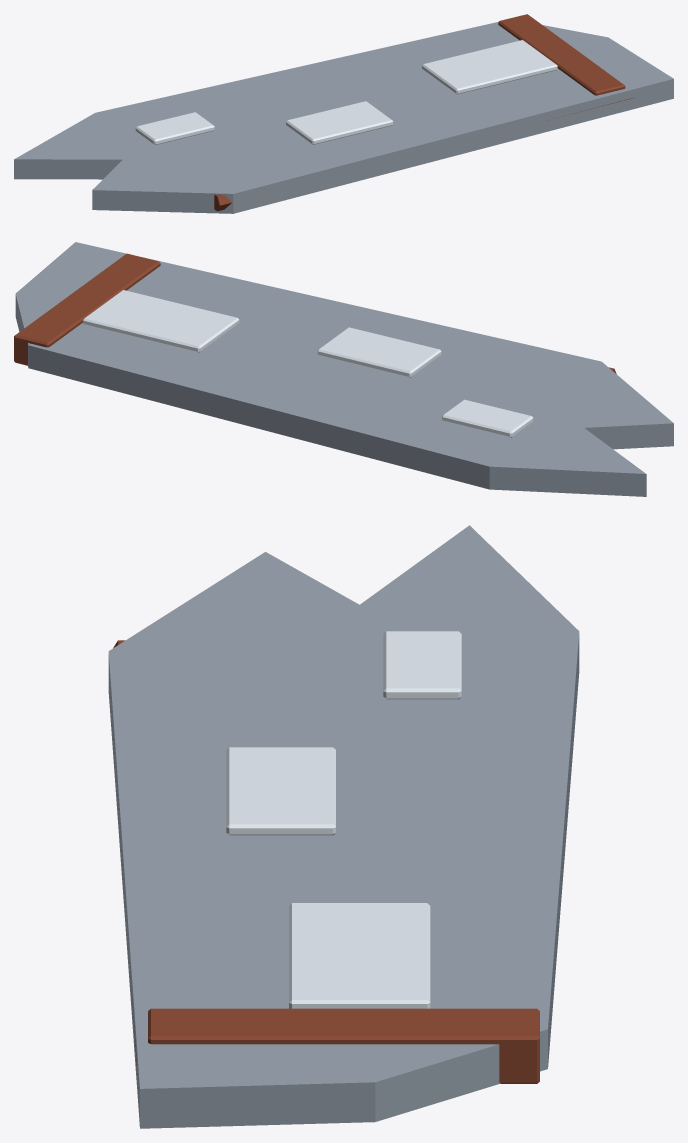
The model's file is MenuWreckWing.fbx.
3 views of the same model, one above another, from view 1: azimuth 30°, elevation 25°; view 2: azimuth 150°, elevation 25°; view 3: azimuth 270°, elevation 25° (orthographic). The views are drawn at different scales.
Visible parts, largest first — view 1: MenuWreckWing; view 2: MenuWreckWing; view 3: MenuWreckWing.
Part boxes in pixels (x1,y1,x2,y2): MenuWreckWing: (14,14,673,213); MenuWreckWing: (14,242,673,496); MenuWreckWing: (108,525,579,1128).
Bounding box in the file's own units: 850 × 37 × 300.
